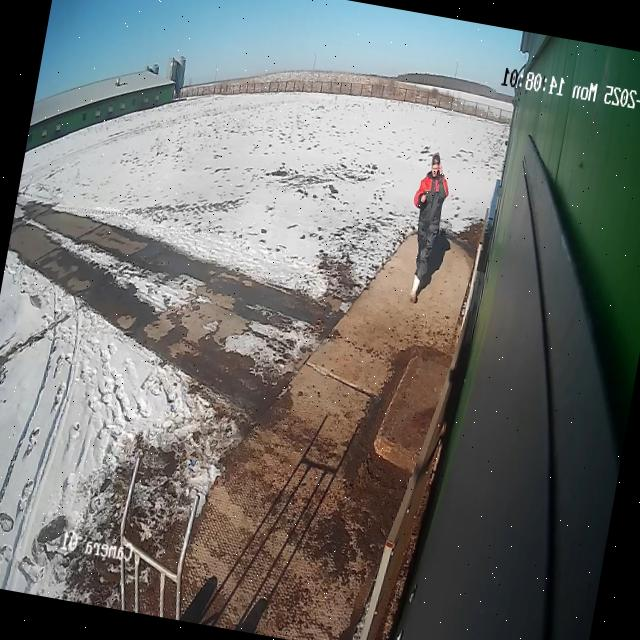Red uniform: (410, 152, 448, 301)
